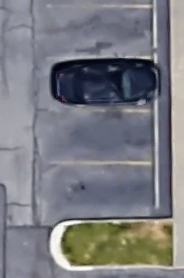Occupied: (48, 56, 154, 111)
Vacant: (49, 163, 154, 217), (49, 111, 154, 164), (48, 6, 154, 57)
